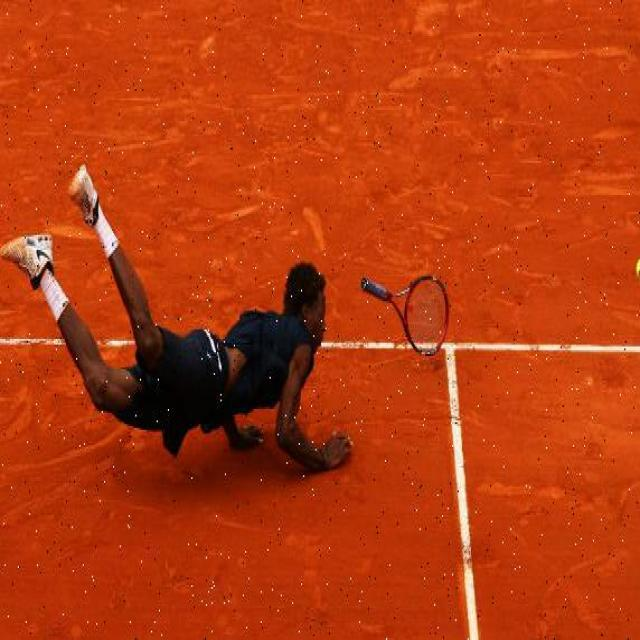fall: (26, 165, 354, 468)
